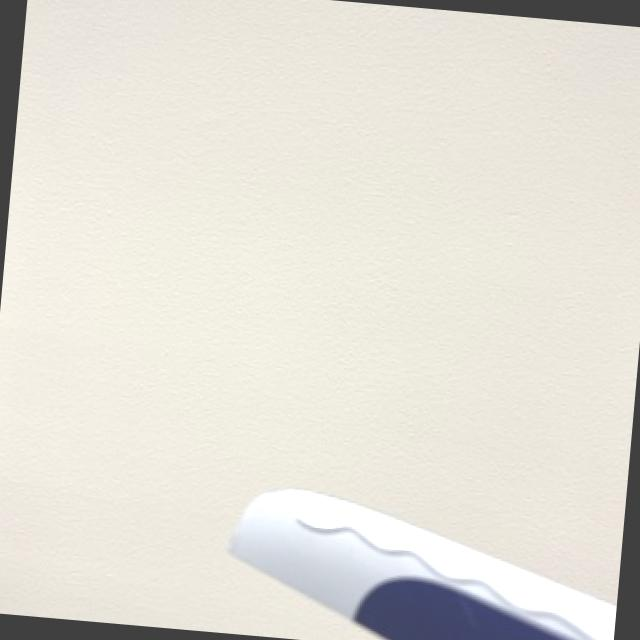healthy: (232, 488, 612, 640)
